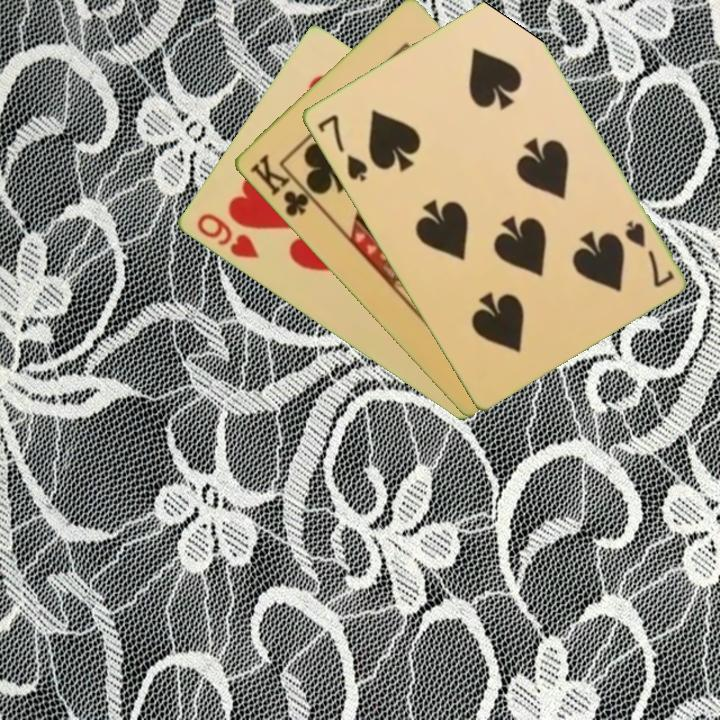7s: (313, 111, 371, 185), (620, 216, 677, 291)
9h: (192, 209, 262, 262)
Kc: (245, 150, 319, 220)
